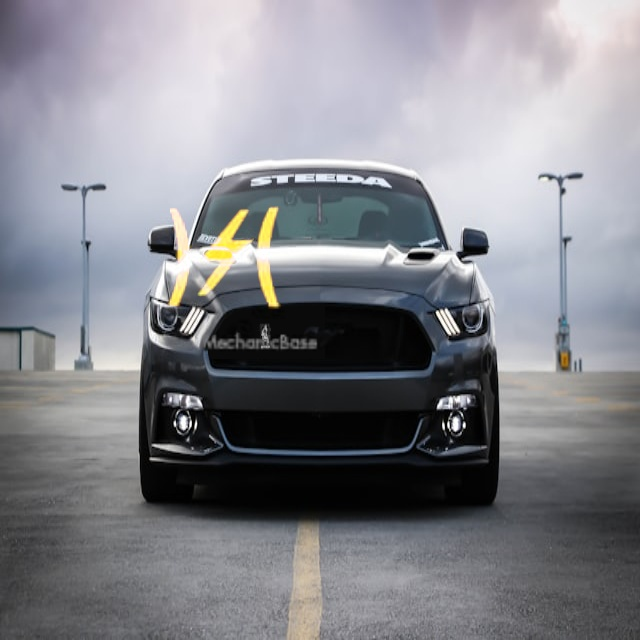symbol: (123, 157, 325, 359), (482, 34, 603, 155)
